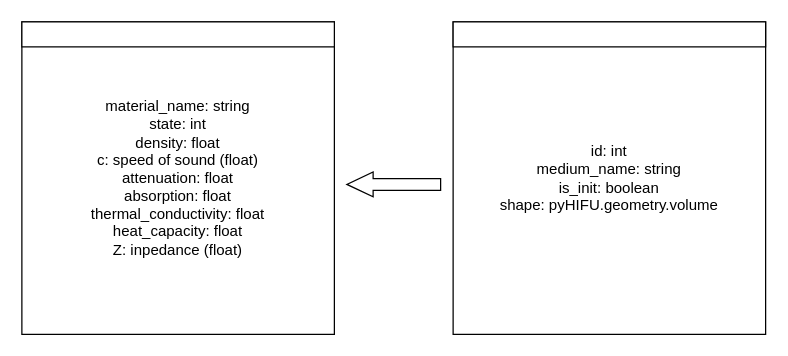
Image size: 788x356. Some labels were removed from this diagram. Each missing label, with the centre of its shape:
"Material" belongs at point 177,34.
"Medium" belongs at point 609,34.
